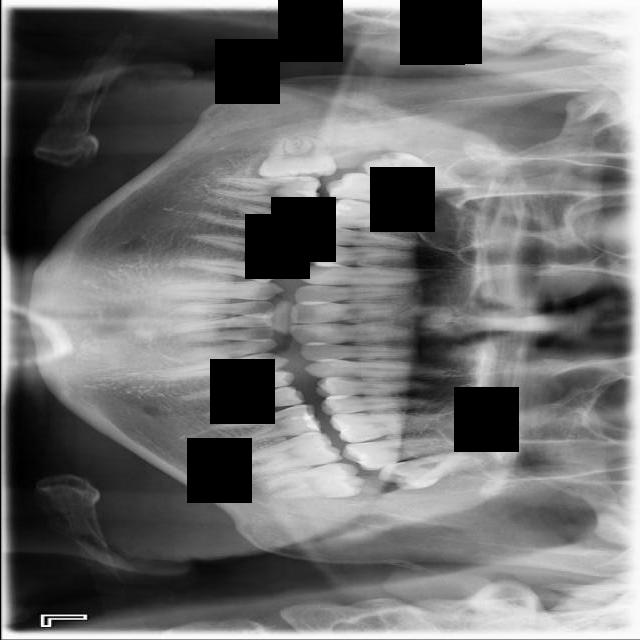3M ESPE Implant: (359, 148, 465, 191)
52: (257, 196, 315, 248), (273, 398, 323, 446), (270, 171, 325, 214), (328, 410, 383, 445), (316, 198, 371, 230)
73: (43, 592, 47, 598)
BioHorizons Implant: (339, 433, 458, 474)
BioLife Implant: (374, 444, 485, 498)
Biomet 3i Implant: (262, 461, 365, 502)
Blue Sky Bio Implant: (229, 428, 343, 476)
Caries: (324, 170, 438, 206)
Implant: (211, 174, 321, 210)
Keystone Dental Implant: (253, 131, 339, 186)
